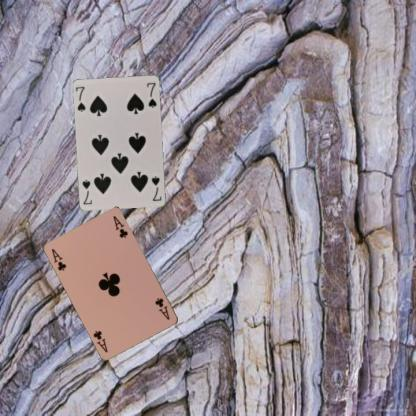7s: (73, 84, 87, 113), (149, 174, 162, 202)
Ac: (49, 246, 68, 272), (153, 295, 171, 321)
